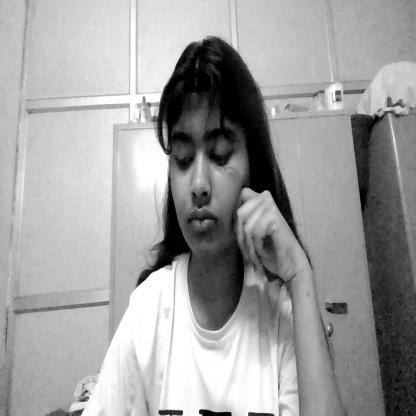Normal: (162, 43, 261, 270)
